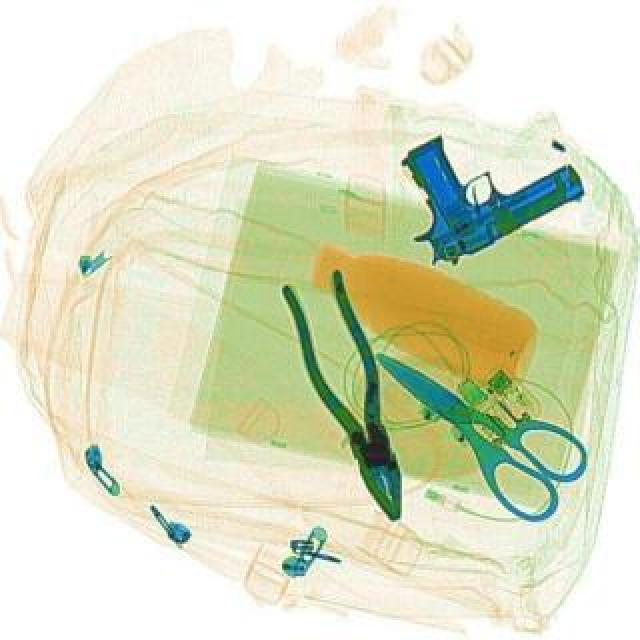gun: (368, 90, 588, 274)
pliers: (342, 318, 600, 530)
wrench: (272, 266, 428, 530)
